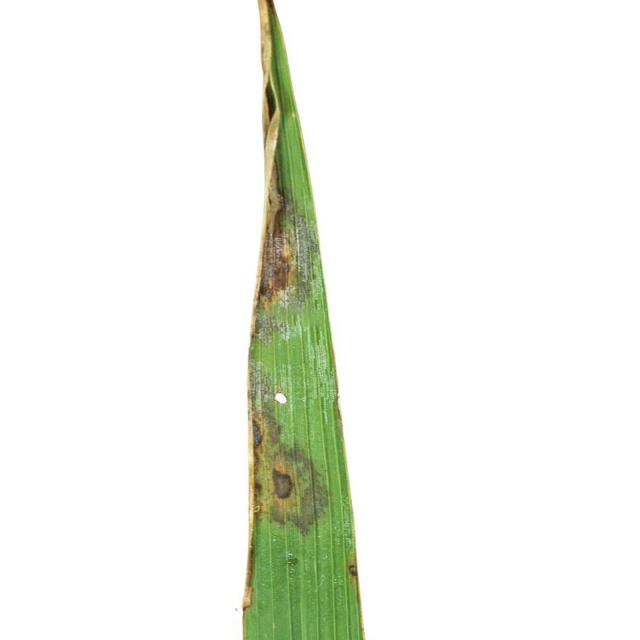Leaf scald: (220, 1, 427, 640)
